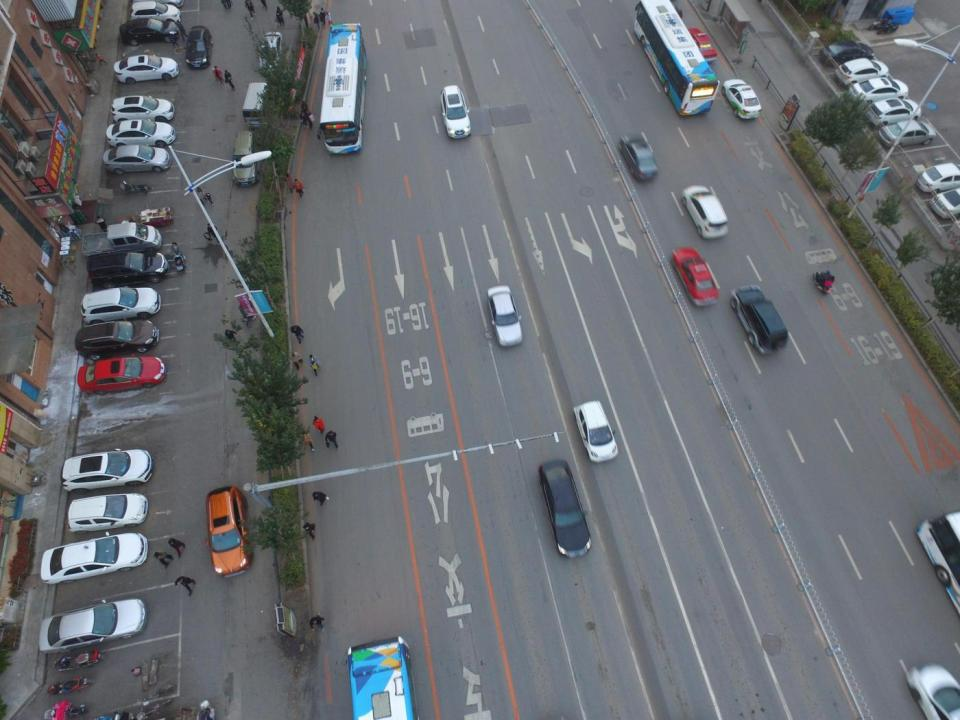bus: (631, 0, 718, 121), (316, 21, 370, 157), (349, 636, 415, 718), (915, 510, 960, 618)
car: (40, 599, 150, 650), (536, 460, 594, 556), (42, 534, 151, 584), (730, 284, 789, 356), (60, 448, 155, 492), (207, 486, 250, 582), (65, 493, 148, 538), (78, 354, 167, 395), (75, 320, 161, 356), (906, 661, 960, 718), (670, 247, 721, 306), (572, 403, 618, 463), (82, 289, 162, 323), (681, 186, 729, 238), (487, 284, 522, 352), (106, 116, 176, 147), (115, 54, 181, 86), (103, 144, 170, 175), (438, 84, 473, 142), (119, 18, 178, 52), (621, 133, 661, 180), (722, 78, 761, 124), (864, 99, 922, 127), (878, 115, 934, 144), (110, 95, 174, 120), (850, 77, 909, 101), (128, 0, 184, 25), (917, 162, 960, 194), (253, 33, 281, 79), (838, 60, 887, 84), (689, 26, 716, 69), (187, 26, 212, 70), (930, 186, 960, 219), (824, 43, 873, 59)
van: (89, 250, 172, 284), (82, 221, 159, 253), (232, 128, 261, 184), (242, 79, 274, 124)
